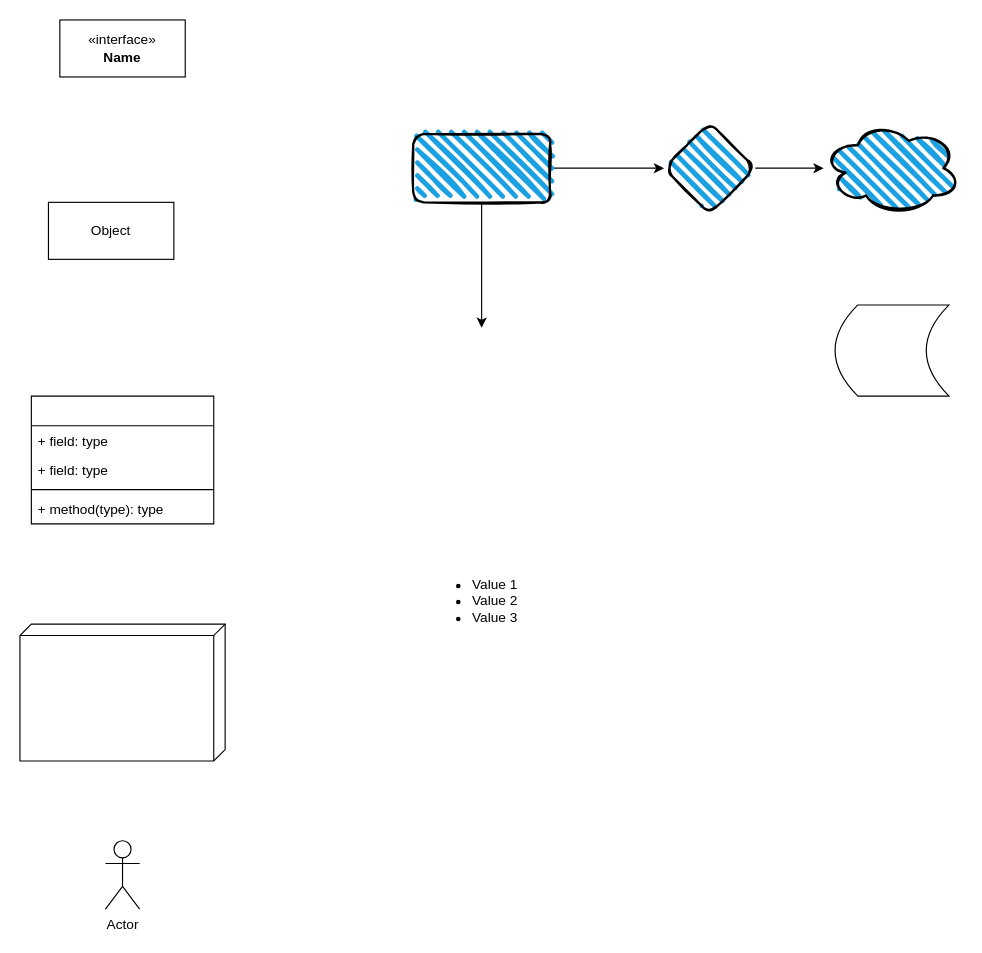
Image size: 982x953. Some labels were removed from this diagram. Each missing label, with the box of its shape:
Block: (19, 623, 225, 761)
Classname: (30, 395, 214, 524)
